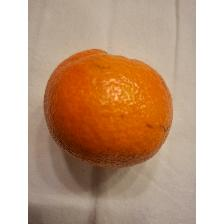Mandarine: (41, 47, 176, 169)
